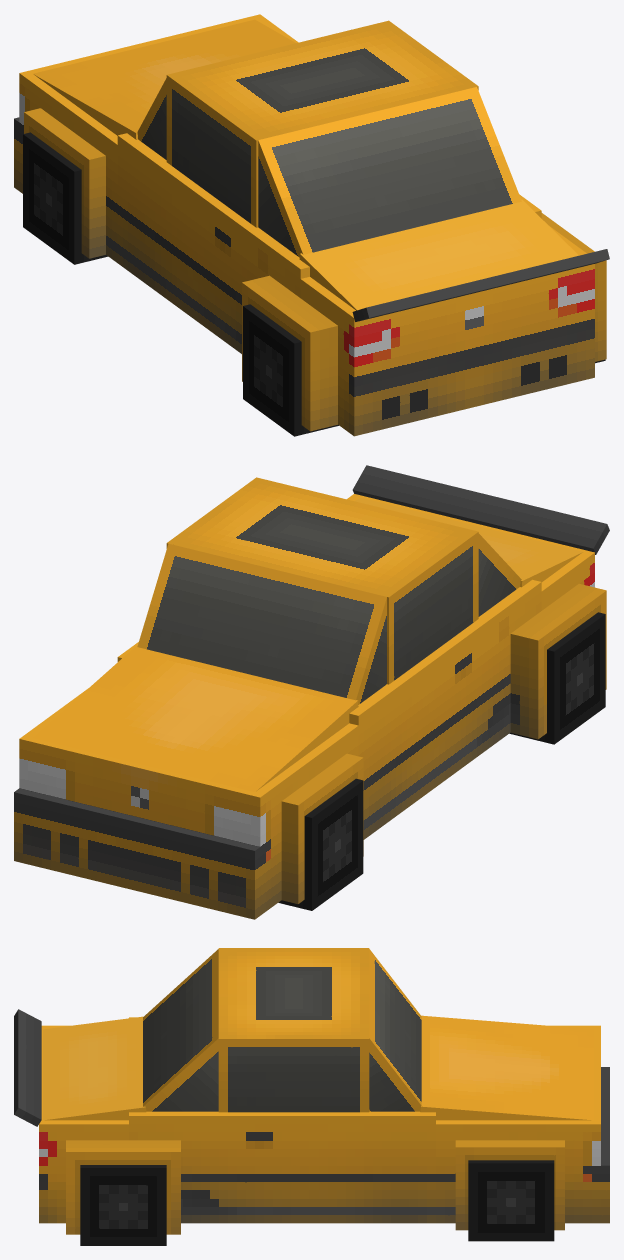
3 views of the same model, one above another, from view 1: azimuth 30°, elevation 25°; view 2: azimuth 150°, elevation 25°; view 3: azimuth 270°, elevation 25° (orthographic). The views are drawn at different scales.
Visible parts, largest first — view 1: 2476bf9b-a751-54d0-b775-522c771ce12b_16, 89d9b6e7-c507-7ba1-fb02-1599aabf75d2_3, 600d4303-d287-c297-199f-8a9c4f00beba_1, 68c68d8a-d87d-8700-3deb-0b8b3576c1d9_0, b2cb1ec6-c334-c987-c79a-721444f56ab3_14, 246304f4-34a3-a4fb-a7fd-cd0da50a80de_13, 23a6cfb0-b6a0-5ebd-0430-e2fa4aa005b7_11, a21a449d-0d1c-6826-bded-1d768a55bec7_9, ebcb60d4-a73c-d7c4-15a3-3c832fb8b693_4, 942d8e9b-e8d1-0ff1-6244-39a2c83b3f06_12, d6752107-08fc-797c-870c-86883fd99196_5, c5cd5247-477d-9608-e852-c83a0f7ca581_17 (+2 smaller); view 2: 600d4303-d287-c297-199f-8a9c4f00beba_1, 246304f4-34a3-a4fb-a7fd-cd0da50a80de_13, 5c189f44-af4e-23d4-d839-efdec4f4ce86_2, 68c68d8a-d87d-8700-3deb-0b8b3576c1d9_0, 942d8e9b-e8d1-0ff1-6244-39a2c83b3f06_12, 3aa2c063-1ee8-5d33-aa9e-41baef97bb8e_15, c5cd5247-477d-9608-e852-c83a0f7ca581_17, 23a6cfb0-b6a0-5ebd-0430-e2fa4aa005b7_11, ebcb60d4-a73c-d7c4-15a3-3c832fb8b693_4, a21a449d-0d1c-6826-bded-1d768a55bec7_9, d6752107-08fc-797c-870c-86883fd99196_5, b2cb1ec6-c334-c987-c79a-721444f56ab3_14 (+2 smaller); view 3: 68c68d8a-d87d-8700-3deb-0b8b3576c1d9_0, 600d4303-d287-c297-199f-8a9c4f00beba_1, 246304f4-34a3-a4fb-a7fd-cd0da50a80de_13, 89d9b6e7-c507-7ba1-fb02-1599aabf75d2_3, b2cb1ec6-c334-c987-c79a-721444f56ab3_14, 942d8e9b-e8d1-0ff1-6244-39a2c83b3f06_12, 9a8307dc-66b5-a1d2-1926-5061f9a0f178_7, 668df5d8-8f9e-e1a2-4545-29b151b4f18b_8, 5c189f44-af4e-23d4-d839-efdec4f4ce86_2, b6f5fbf3-8c38-4ae5-cf56-109cd6ead49a_10, 2476bf9b-a751-54d0-b775-522c771ce12b_16, 4515c510-d2b1-eecb-bb8e-d894734f9c84_6 (+2 smaller).
Part boxes in pixels (x1=…): 2476bf9b-a751-54d0-b775-522c771ce12b_16: x1=300, y1=226, x2=594, y2=436; 89d9b6e7-c507-7ba1-fb02-1599aabf75d2_3: x1=258, y1=87, x2=521, y2=257; 600d4303-d287-c297-199f-8a9c4f00beba_1: x1=166, y1=20, x2=478, y2=227; 68c68d8a-d87d-8700-3deb-0b8b3576c1d9_0: x1=117, y1=133, x2=541, y2=353; b2cb1ec6-c334-c987-c79a-721444f56ab3_14: x1=299, y1=199, x2=578, y2=310; 246304f4-34a3-a4fb-a7fd-cd0da50a80de_13: x1=33, y1=19, x2=295, y2=139; 23a6cfb0-b6a0-5ebd-0430-e2fa4aa005b7_11: x1=242, y1=275, x2=337, y2=431; a21a449d-0d1c-6826-bded-1d768a55bec7_9: x1=243, y1=304, x2=338, y2=436; ebcb60d4-a73c-d7c4-15a3-3c832fb8b693_4: x1=23, y1=132, x2=107, y2=264; 942d8e9b-e8d1-0ff1-6244-39a2c83b3f06_12: x1=19, y1=14, x2=298, y2=262; d6752107-08fc-797c-870c-86883fd99196_5: x1=24, y1=108, x2=105, y2=258; c5cd5247-477d-9608-e852-c83a0f7ca581_17: x1=352, y1=249, x2=609, y2=321; 600d4303-d287-c297-199f-8a9c4f00beba_1: x1=166, y1=477, x2=478, y2=684; 246304f4-34a3-a4fb-a7fd-cd0da50a80de_13: x1=33, y1=646, x2=358, y2=792; 5c189f44-af4e-23d4-d839-efdec4f4ce86_2: x1=137, y1=543, x2=386, y2=704; 68c68d8a-d87d-8700-3deb-0b8b3576c1d9_0: x1=117, y1=579, x2=541, y2=839; 942d8e9b-e8d1-0ff1-6244-39a2c83b3f06_12: x1=19, y1=689, x2=358, y2=915; 3aa2c063-1ee8-5d33-aa9e-41baef97bb8e_15: x1=14, y1=788, x2=260, y2=919; c5cd5247-477d-9608-e852-c83a0f7ca581_17: x1=352, y1=465, x2=609, y2=554; 23a6cfb0-b6a0-5ebd-0430-e2fa4aa005b7_11: x1=510, y1=583, x2=606, y2=739; ebcb60d4-a73c-d7c4-15a3-3c832fb8b693_4: x1=278, y1=778, x2=363, y2=910; a21a449d-0d1c-6826-bded-1d768a55bec7_9: x1=509, y1=612, x2=605, y2=744; d6752107-08fc-797c-870c-86883fd99196_5: x1=281, y1=753, x2=363, y2=903; b2cb1ec6-c334-c987-c79a-721444f56ab3_14: x1=354, y1=497, x2=582, y2=587; 68c68d8a-d87d-8700-3deb-0b8b3576c1d9_0: x1=129, y1=1017, x2=435, y2=1223; 600d4303-d287-c297-199f-8a9c4f00beba_1: x1=218, y1=948, x2=369, y2=1112; 246304f4-34a3-a4fb-a7fd-cd0da50a80de_13: x1=420, y1=1015, x2=593, y2=1120; 89d9b6e7-c507-7ba1-fb02-1599aabf75d2_3: x1=143, y1=949, x2=218, y2=1111; b2cb1ec6-c334-c987-c79a-721444f56ab3_14: x1=43, y1=1016, x2=146, y2=1120; 942d8e9b-e8d1-0ff1-6244-39a2c83b3f06_12: x1=436, y1=1025, x2=600, y2=1223; 9a8307dc-66b5-a1d2-1926-5061f9a0f178_7: x1=468, y1=1160, x2=554, y2=1241; 668df5d8-8f9e-e1a2-4545-29b151b4f18b_8: x1=80, y1=1165, x2=166, y2=1245; 5c189f44-af4e-23d4-d839-efdec4f4ce86_2: x1=369, y1=949, x2=421, y2=1111; b6f5fbf3-8c38-4ae5-cf56-109cd6ead49a_10: x1=66, y1=1140, x2=180, y2=1234; 2476bf9b-a751-54d0-b775-522c771ce12b_16: x1=39, y1=1025, x2=128, y2=1223; 4515c510-d2b1-eecb-bb8e-d894734f9c84_6: x1=455, y1=1140, x2=564, y2=1230.
Bounding box in the file's own units: 33.6 × 23.2 × 66.4.
Materials: 1 (1 with a texture image).
